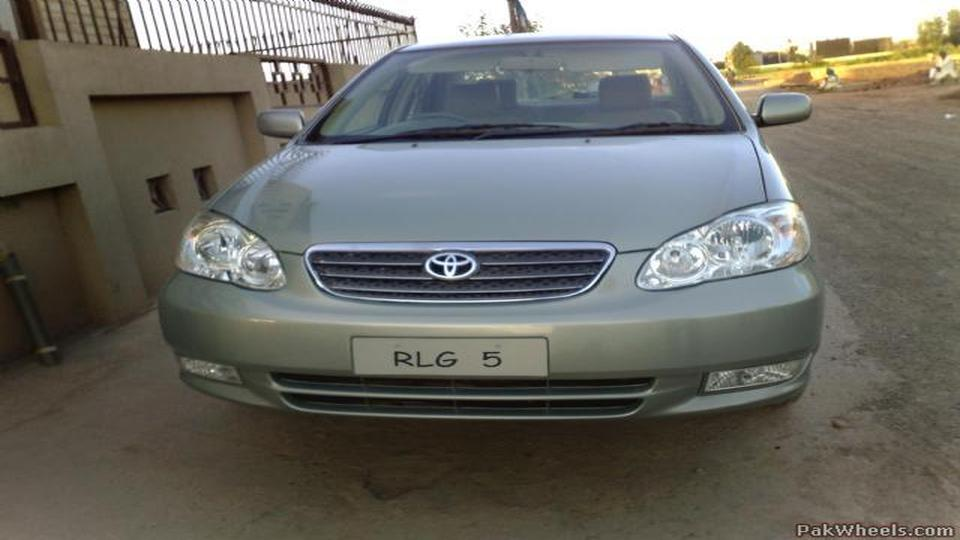NumberPlate: (352, 328, 554, 398)
